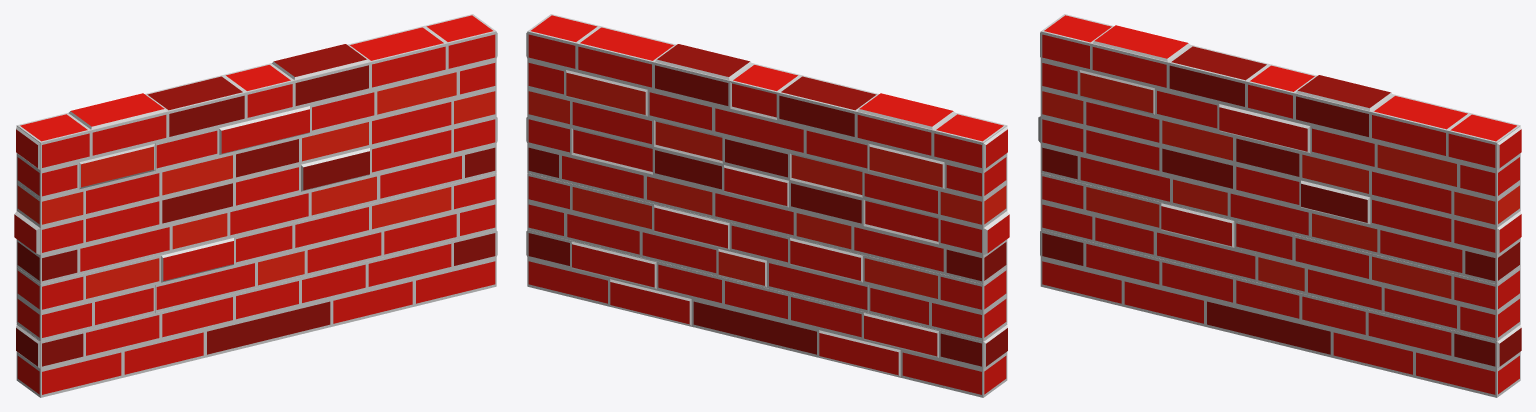
File: Brik_Wall.fbx
The picture shows the model from 3 angles, left to right: view 1: azimuth 30°, elevation 25°; view 2: azimuth 150°, elevation 25°; view 3: azimuth 330°, elevation 25°; orthographic projection.
Parts seen in each view (by area): view 1: BrickWall, BrickParts169, BrickParts166, BrickParts130, BrickParts133, BrickParts128, BrickParts134, BrickParts157, BrickParts180, BrickParts147, BrickParts129, BrickParts113 (+27 smaller); view 2: BrickWall, BrickParts160, BrickParts109, BrickParts177, BrickParts121, BrickParts173, BrickParts119, BrickParts157, BrickParts114, BrickParts175, BrickParts113, BrickParts124 (+24 smaller); view 3: BrickWall, BrickParts128, BrickParts130, BrickParts169, BrickParts176, BrickParts132, BrickParts134, BrickParts158, BrickParts163, BrickParts129, BrickParts166, BrickParts174 (+25 smaller).
Part boxes in pixels (x1=…): BrickWall: x1=14, y1=14, x2=497, y2=397; BrickParts169: x1=378, y1=153, x2=463, y2=201; BrickParts166: x1=370, y1=127, x2=452, y2=175; BrickParts130: x1=229, y1=190, x2=309, y2=238; BrickParts133: x1=160, y1=181, x2=234, y2=225; BrickParts128: x1=79, y1=224, x2=171, y2=274; BrickParts134: x1=234, y1=164, x2=300, y2=208; BrickParts157: x1=294, y1=59, x2=370, y2=107; BrickParts180: x1=301, y1=263, x2=366, y2=305; BrickParts147: x1=148, y1=75, x2=246, y2=135; BrickParts129: x1=171, y1=210, x2=228, y2=251; BrickParts113: x1=160, y1=237, x2=234, y2=283; BrickWall: x1=526, y1=14, x2=1009, y2=397; BrickParts160: x1=571, y1=99, x2=653, y2=146; BrickParts109: x1=767, y1=261, x2=867, y2=307; BrickParts177: x1=653, y1=119, x2=723, y2=163; BrickParts121: x1=723, y1=136, x2=789, y2=180; BrickParts173: x1=653, y1=204, x2=730, y2=250; BrickParts119: x1=863, y1=170, x2=939, y2=216; BrickParts157: x1=653, y1=62, x2=729, y2=108; BrickParts114: x1=730, y1=222, x2=789, y2=264; BrickParts175: x1=566, y1=212, x2=640, y2=255; BrickParts113: x1=789, y1=237, x2=862, y2=279; BrickParts124: x1=939, y1=184, x2=1006, y2=226; BrickWall: x1=1038, y1=14, x2=1521, y2=397; BrickParts128: x1=1079, y1=154, x2=1171, y2=204; BrickParts130: x1=1229, y1=190, x2=1310, y2=238; BrickParts169: x1=1379, y1=227, x2=1463, y2=275; BrickParts176: x1=1306, y1=266, x2=1382, y2=312; BrickParts132: x1=1084, y1=127, x2=1160, y2=173; BrickParts134: x1=1234, y1=164, x2=1300, y2=207; BrickParts158: x1=1370, y1=106, x2=1464, y2=156; BrickParts163: x1=1310, y1=126, x2=1375, y2=169; BrickParts129: x1=1171, y1=176, x2=1228, y2=218; BrickParts166: x1=1370, y1=197, x2=1452, y2=244; BrickParts174: x1=1460, y1=296, x2=1520, y2=340.
Bounding box in the file's own units: 112 × 10.86 × 59.74.
